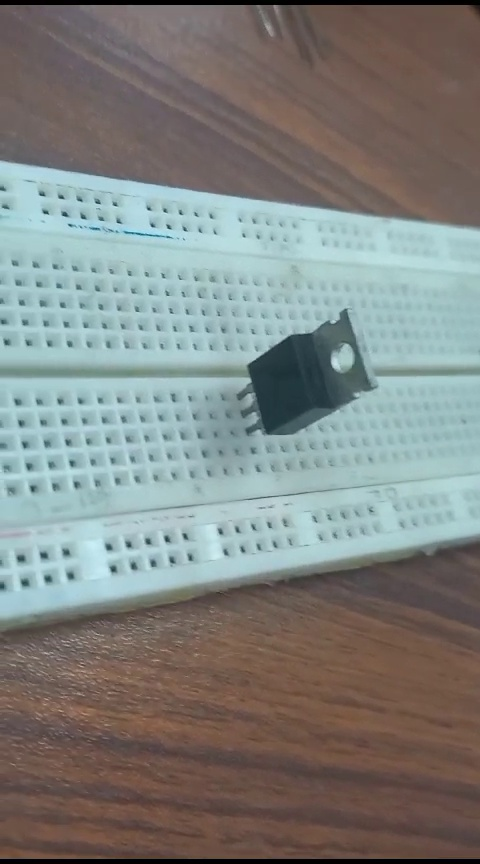voltage regulator: (220, 312, 385, 457)
